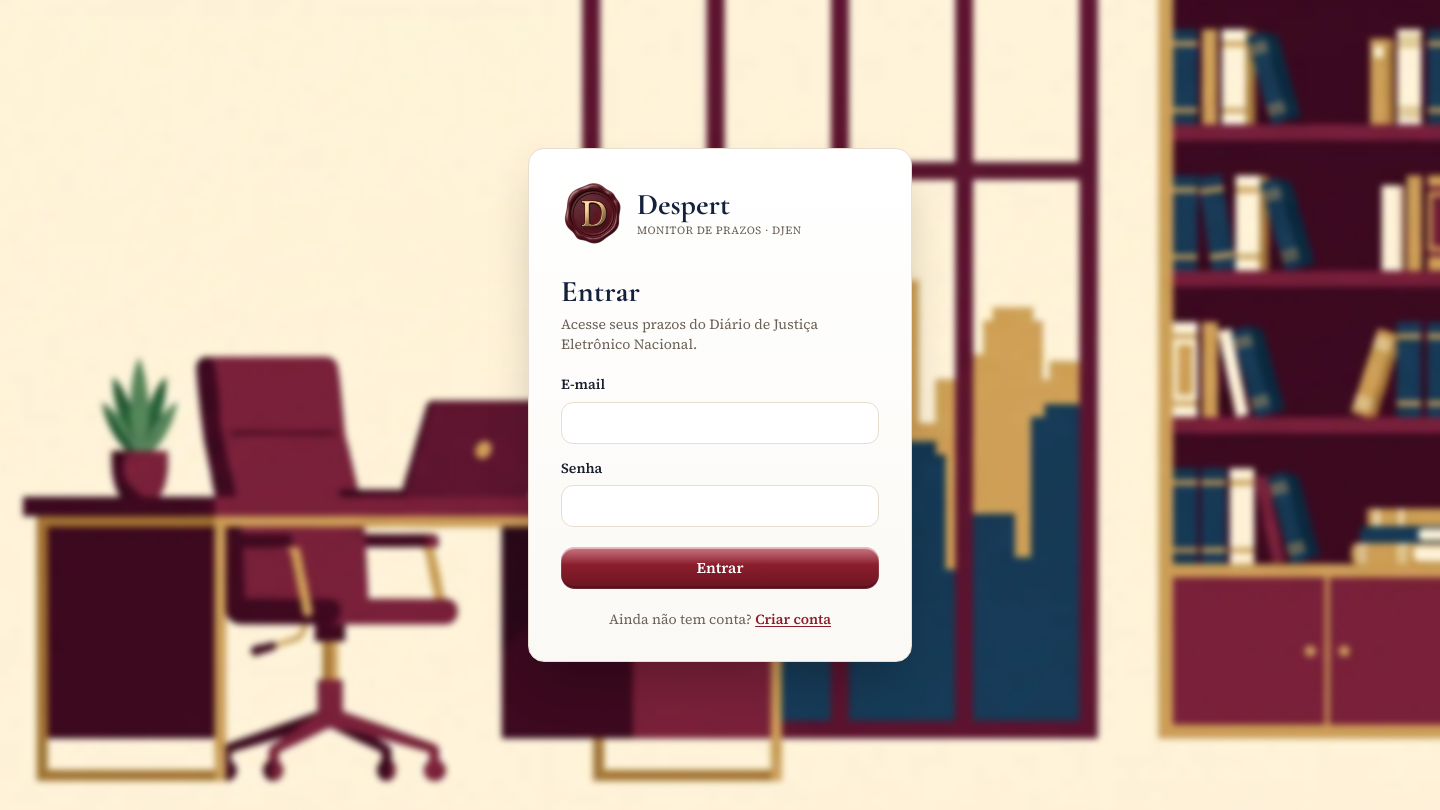
Test: acesso à aplicação › credencial errada mostra mensagem clara sem dizer se a conta existe
Type "ana@exemplo.com" into the field labelled "E-mail" at {"x": 720, "y": 423}, box left=561, top=402, right=879, bottom=444
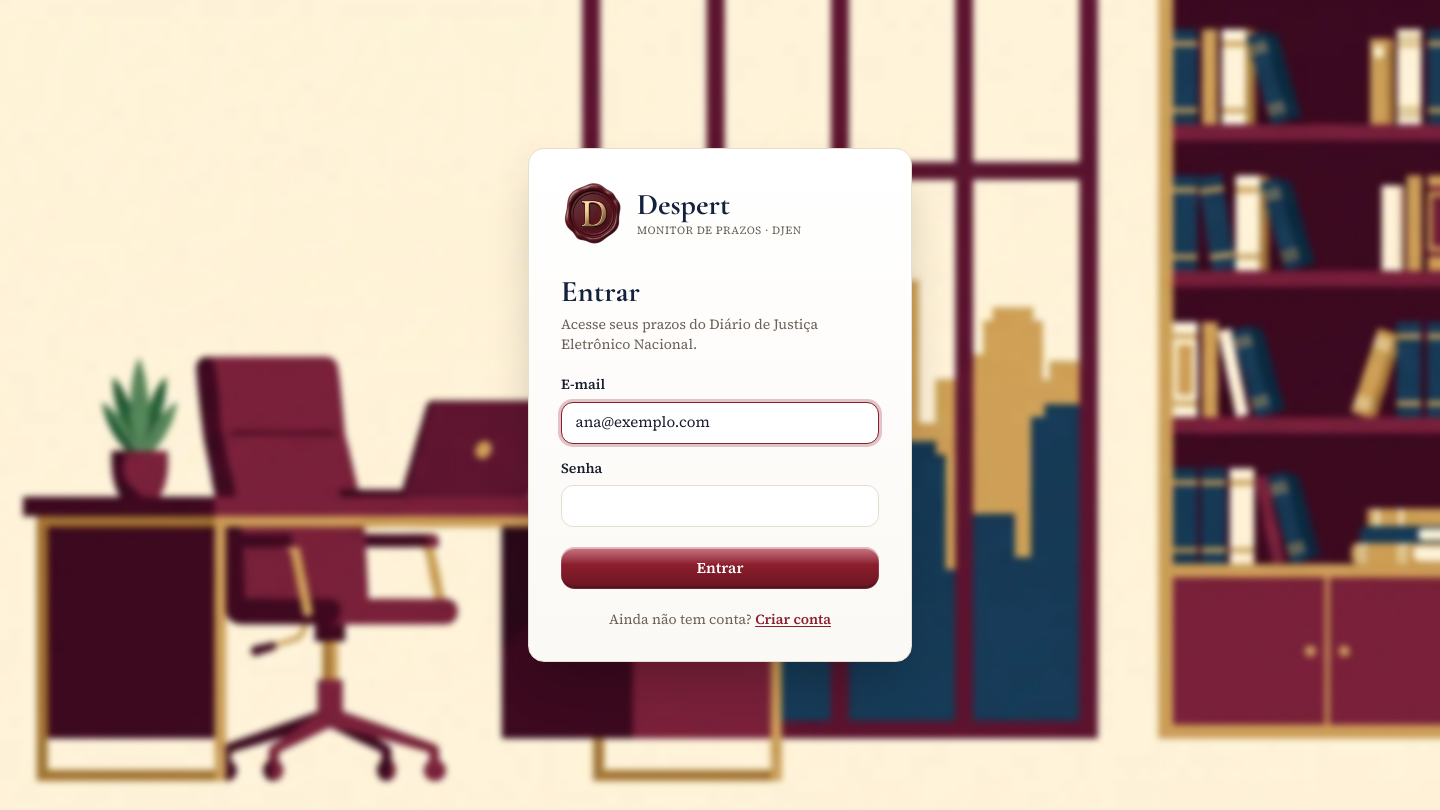
Type "errada123" into the password field labelled "Senha" at {"x": 720, "y": 506}, box left=561, top=485, right=879, bottom=527
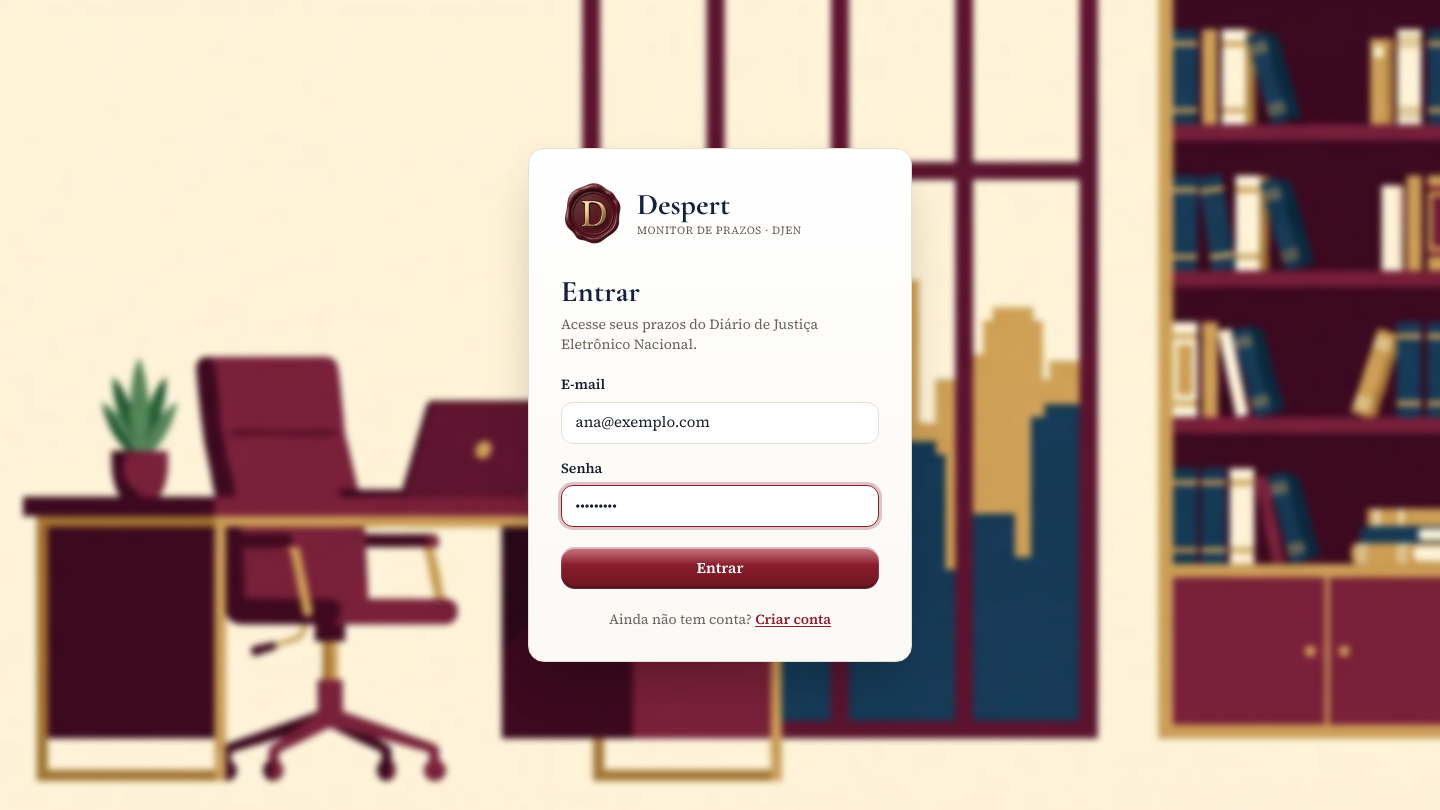
Click the button "Entrar" at {"x": 720, "y": 568}, box left=561, top=547, right=879, bottom=589
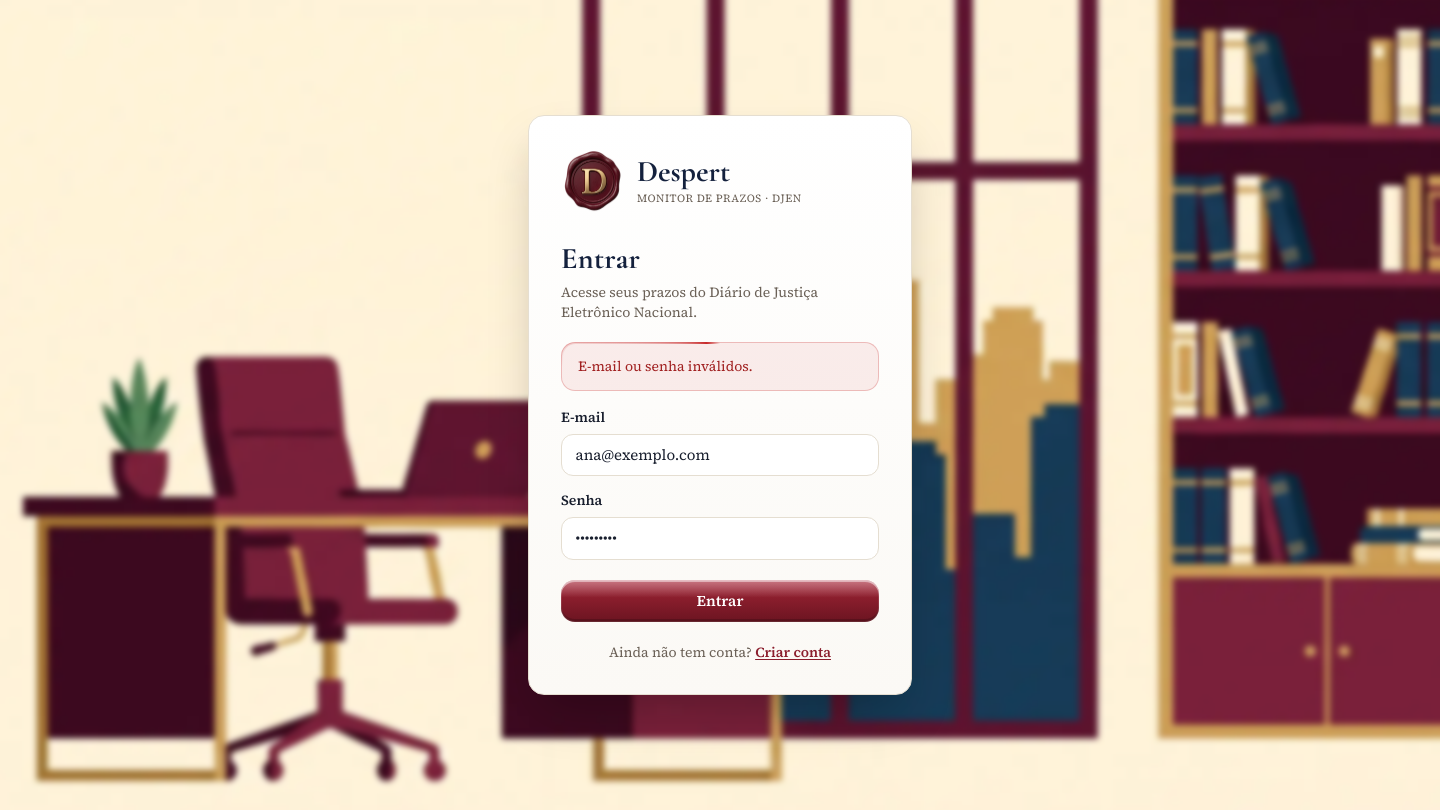
Now the message reads "E-mail ou senha inválidos.", box left=578, top=356, right=753, bottom=376
